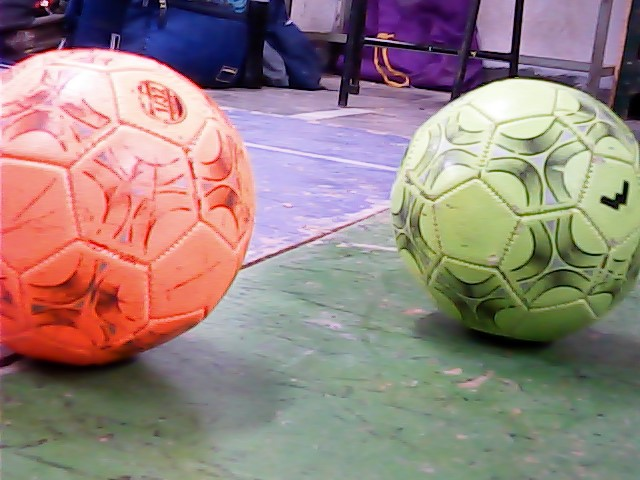Green_ball: (386, 74, 640, 339)
Orange_ball: (5, 45, 264, 370)
